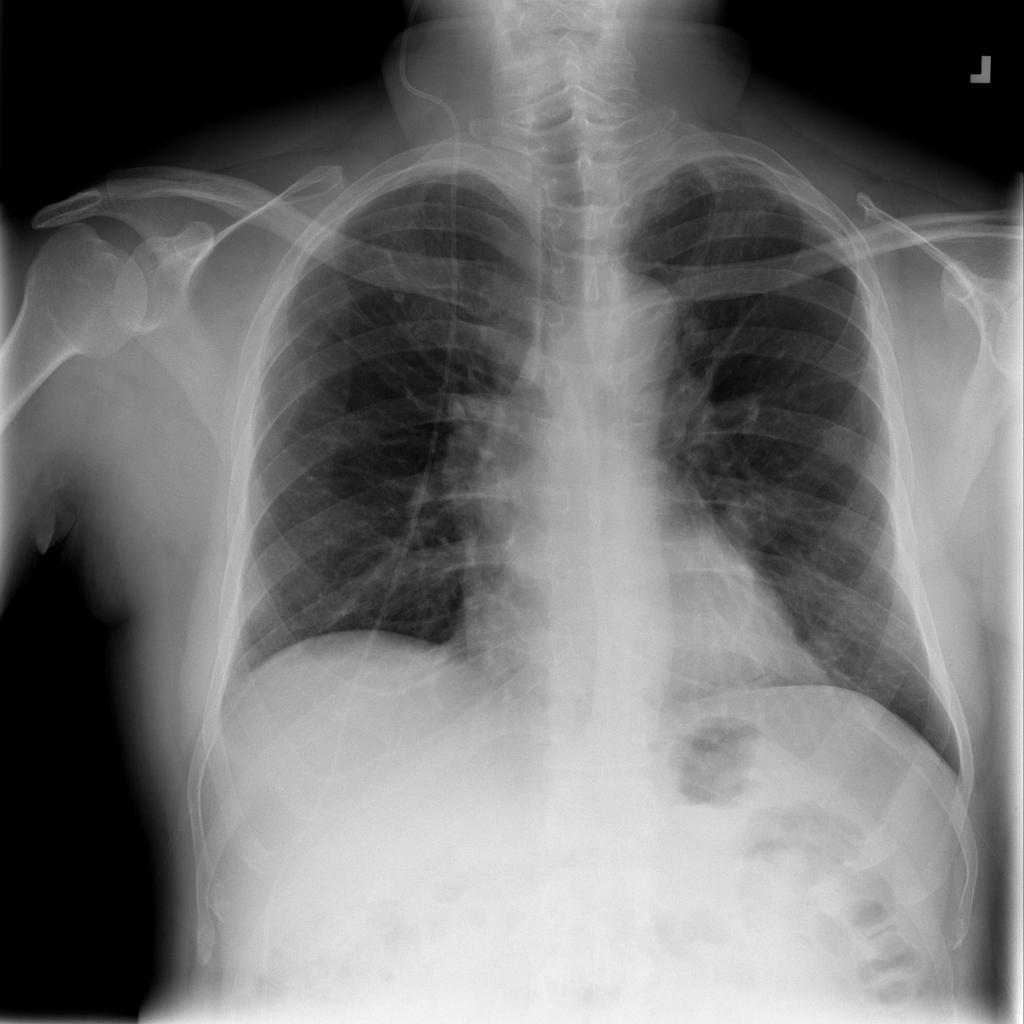nodule: (385, 286, 408, 310)
